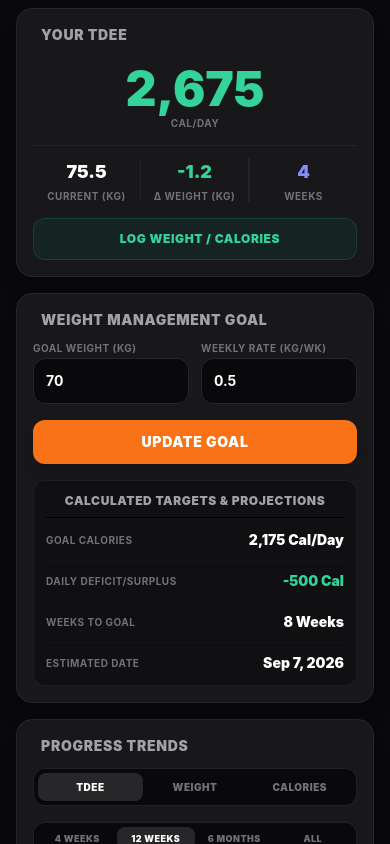
Scenario: TDEEScreen › chart tabs › switches to the calories tab
Step 1. Click the element with test id "chart-tab-calories" → coordinates (300, 787), box [272,781,327,793]
(page scrolled)
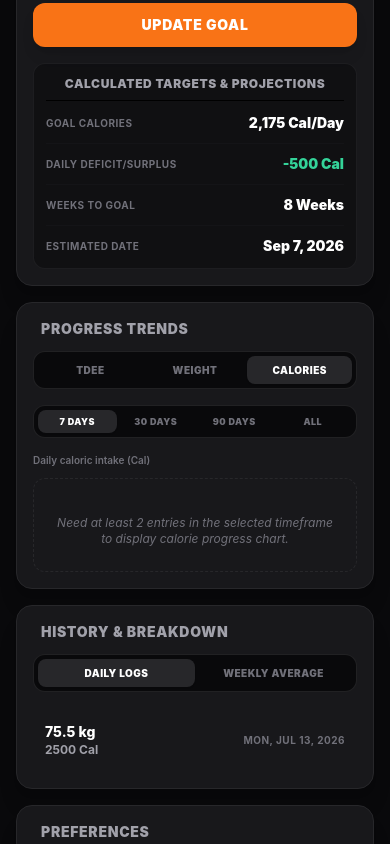
Result: the text "Daily caloric intake (Cal)" is shown at [33,454,150,466]
Result: the element with test id "timeframe-7d" is shown at [38,410,116,433]
